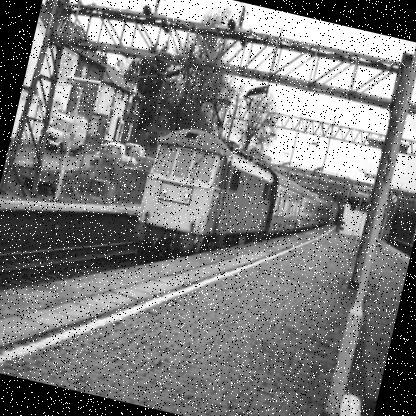Car: (42, 106, 91, 158), (90, 138, 139, 175), (122, 142, 158, 169)
